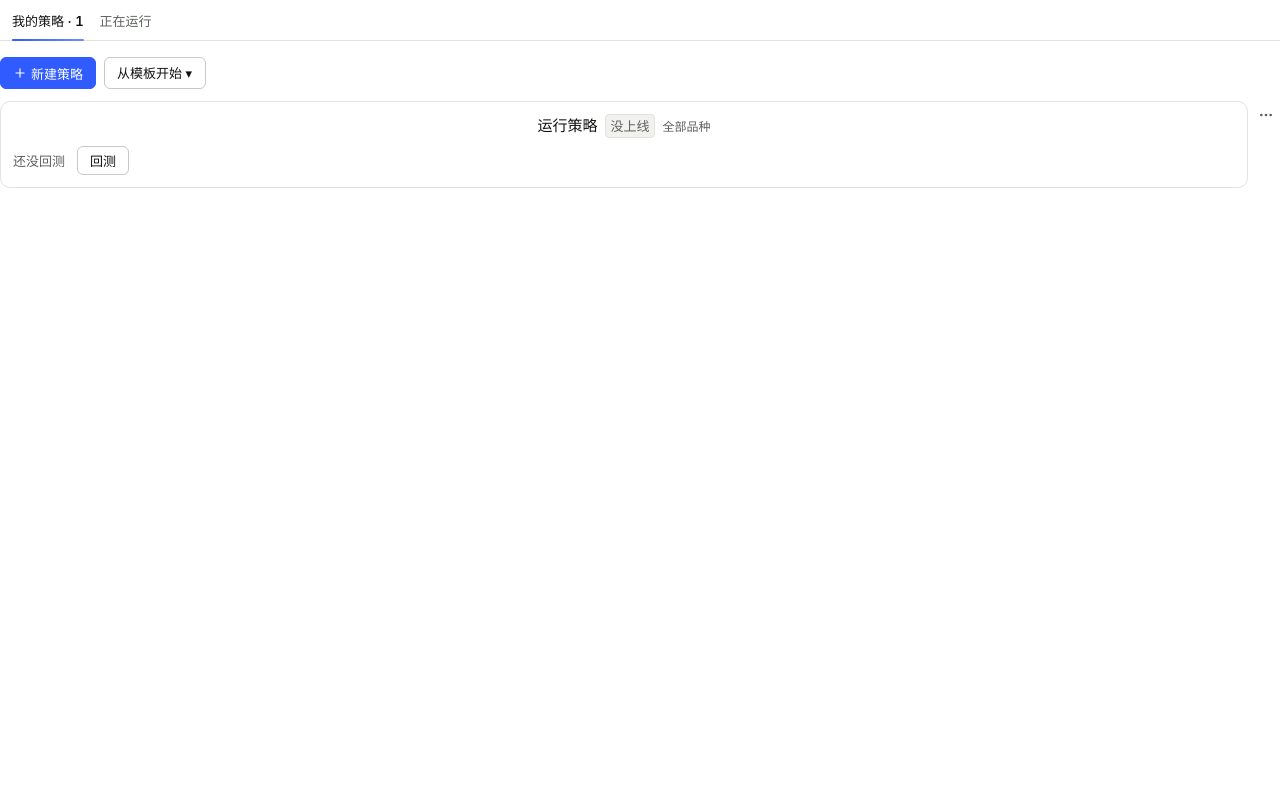
it: emergency stop is explained before any strategy validation or start
Click the button with aria-label "运行策略 · " at point(624, 126), box x1=13 y1=114 x2=1235 y2=138
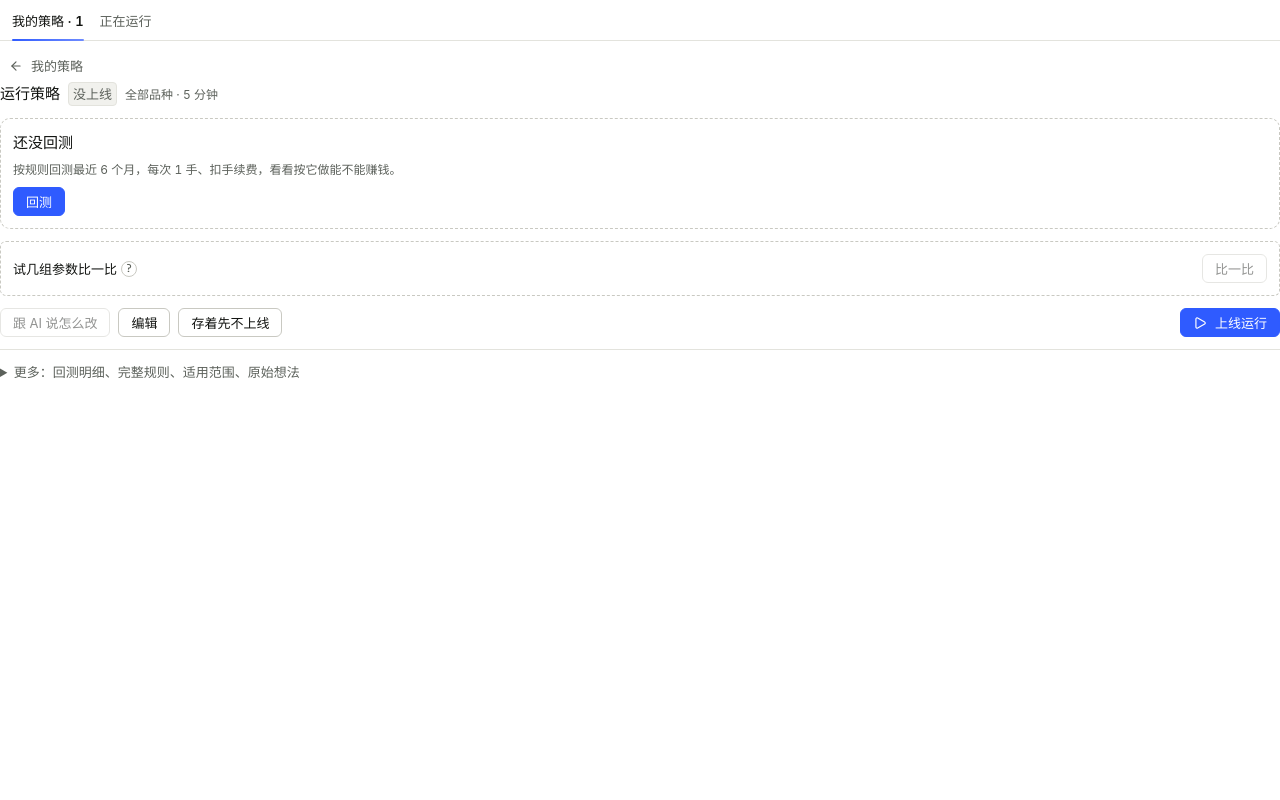
Click the button "上线运行" at point(1230, 323), box x1=1180 y1=308 x2=1279 y2=337
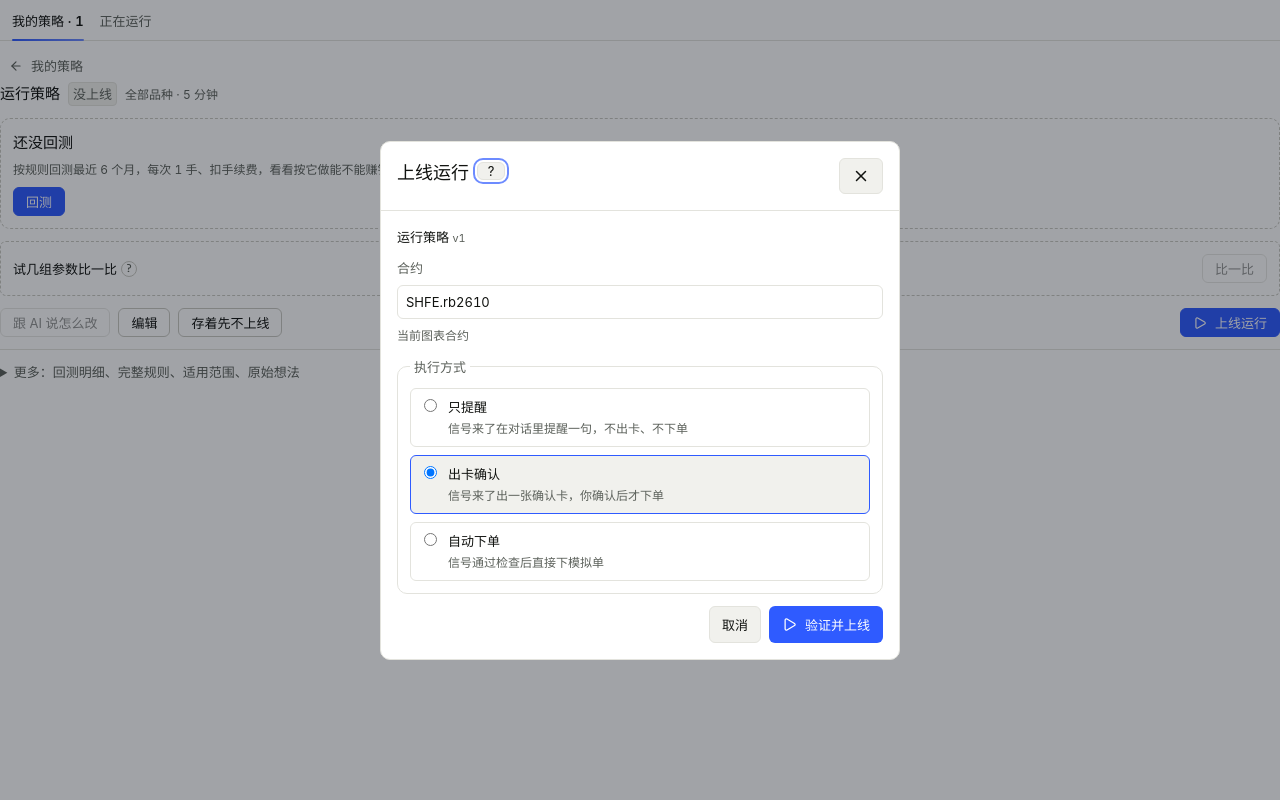
Click the button "验证并上线" at point(826, 624), box x1=769 y1=606 x2=883 y2=642
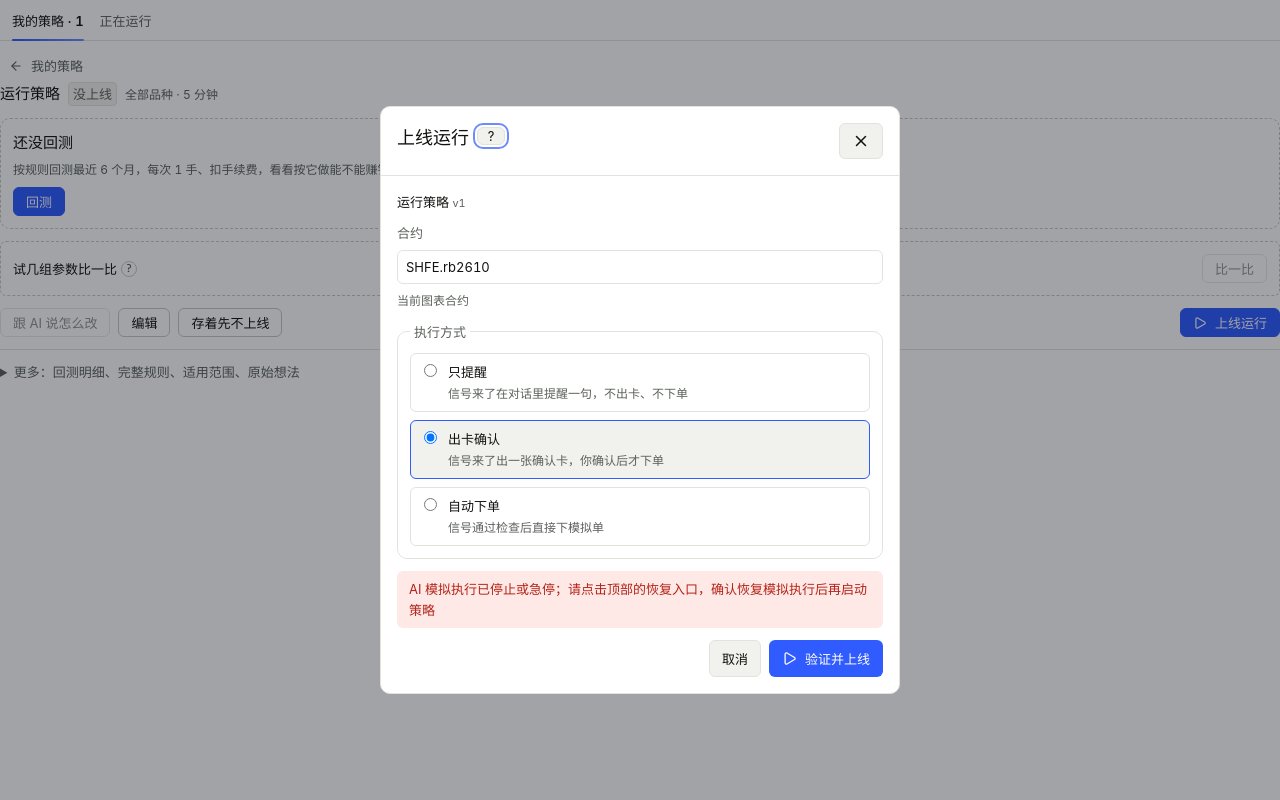
Now the text "AI 模拟执行已停止或急停；请点击顶部的恢复入口，确认恢复模拟执行后再启动策略" is shown, box x1=397 y1=571 x2=883 y2=628
